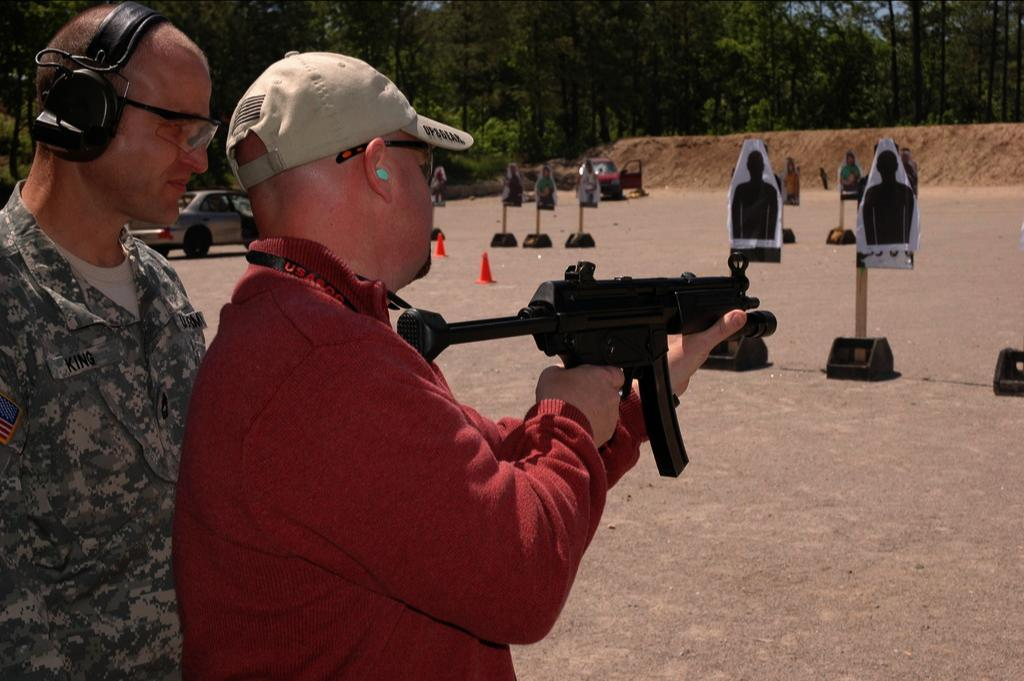gun: (393, 264, 759, 479)
